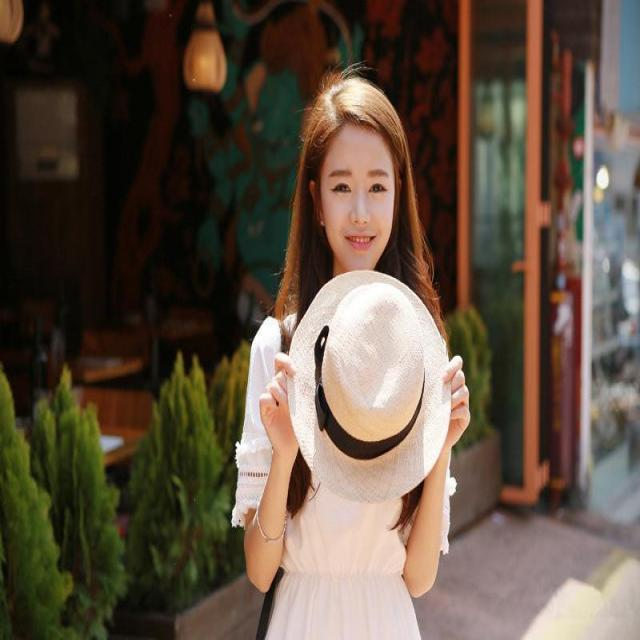short sleeve dress: (234, 308, 451, 639)
